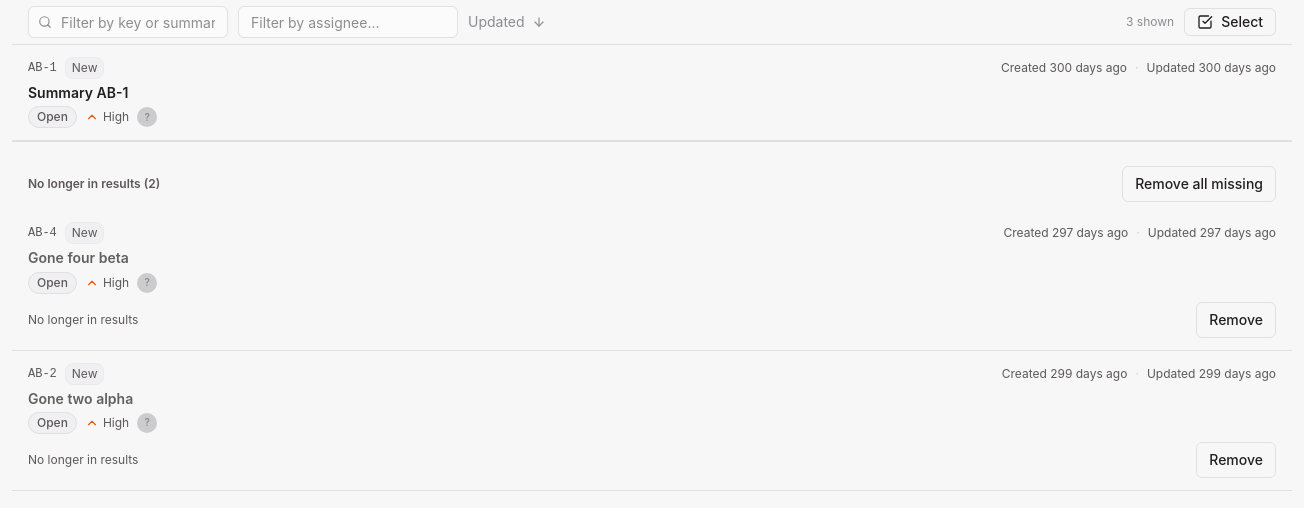
Test: GroupViewPage missing members › search narrows the missing block and its count
Expected: the text "AB-2" is shown, [28,366,57,382]
Type "AB-2" into the field named "Filter tickets by key or summary" at (128, 22), box [28,6,228,38]
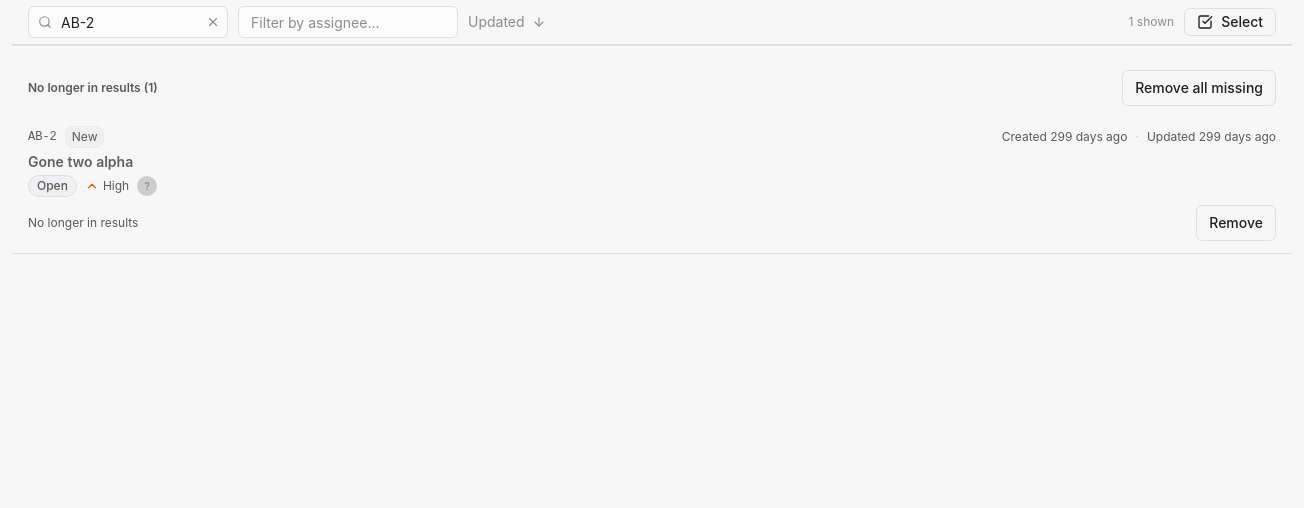
Result: the heading reads "No longer in results (1)" at [28,80,158,95]
Result: the text "AB-4" is gone
Replace the text in the field named "Filter tickets by key or summary" with "AB-1" at (128, 22), box [28,6,228,38]
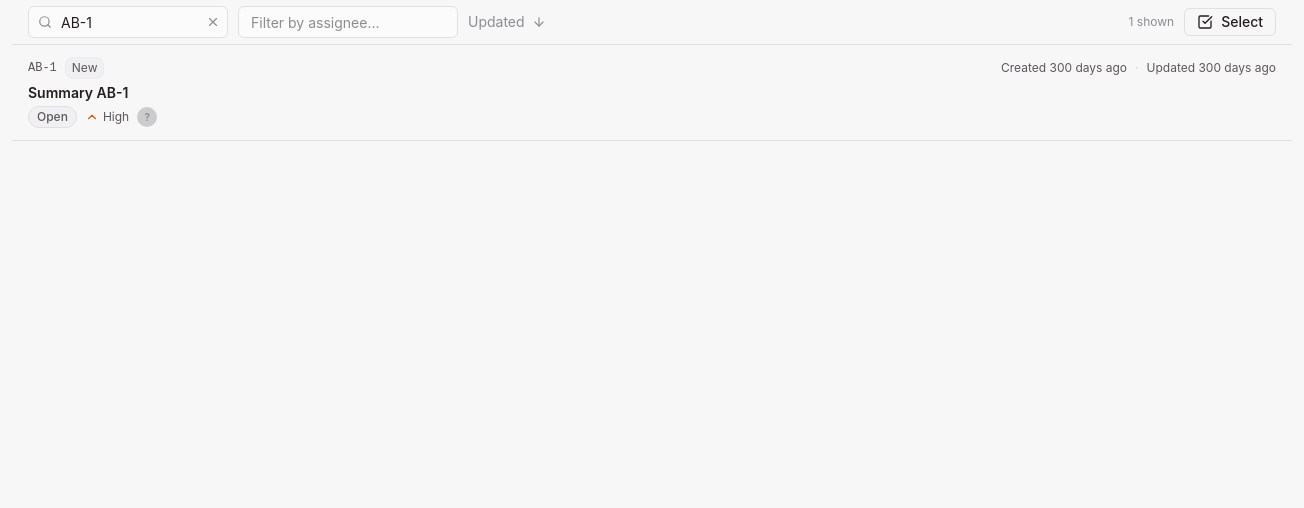
Result: the heading "No longer in results (1)" is gone
